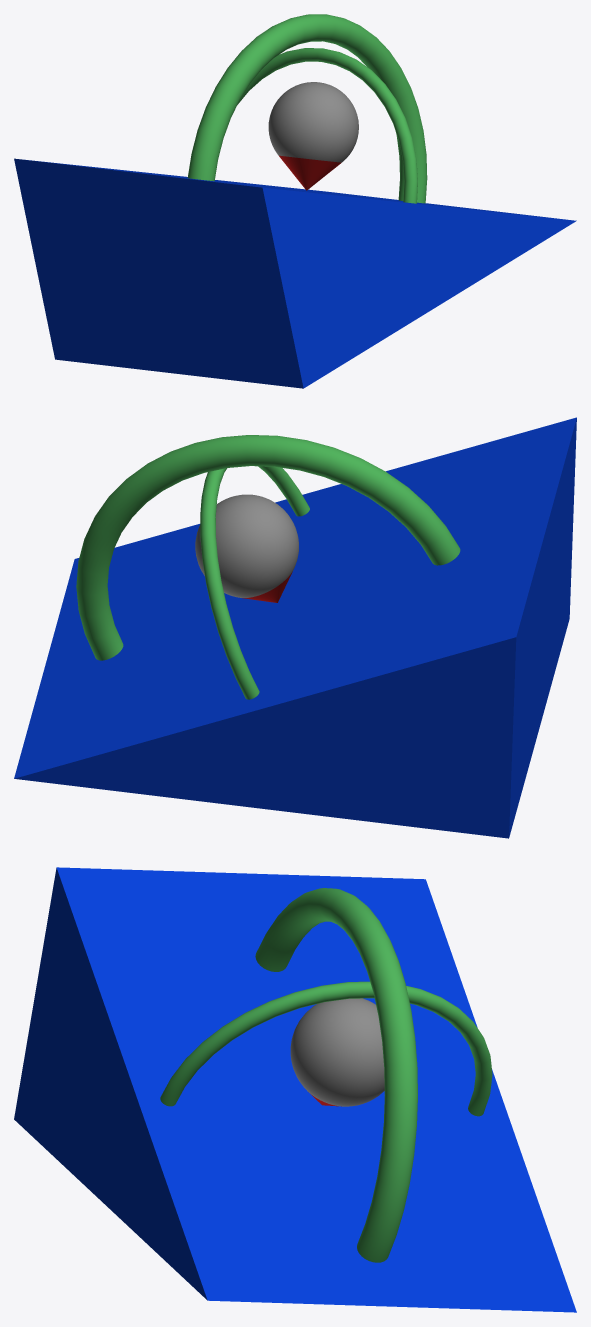
The model's file is Wedge_Torus_Cone_Sphere.glb.
3 renders of one model, top to bottom at view 1: azimuth 30°, elevation 25°; view 2: azimuth 150°, elevation 25°; view 3: azimuth 270°, elevation 25°, orthographic. The views are drawn at different scales.
Parts seen in each view (by area): view 1: Part, Part 2, Part 3, Part 4; view 2: Part, Part 2, Part 3; view 3: Part, Part 2, Part 3.
Boxes of the visible parts, x1=… form: Part: x1=14, y1=158, x2=576, y2=388; Part 2: x1=187, y1=14, x2=427, y2=203; Part 3: x1=268, y1=82, x2=358, y2=162; Part 4: x1=279, y1=155, x2=341, y2=190; Part: x1=14, y1=417, x2=576, y2=838; Part 2: x1=76, y1=435, x2=460, y2=699; Part 3: x1=195, y1=494, x2=298, y2=597; Part: x1=14, y1=867, x2=576, y2=1312; Part 2: x1=160, y1=888, x2=492, y2=1262; Part 3: x1=290, y1=998, x2=384, y2=1106.
Bounding box in the file's own units: 0.1271 × 0.0743 × 0.1067.
